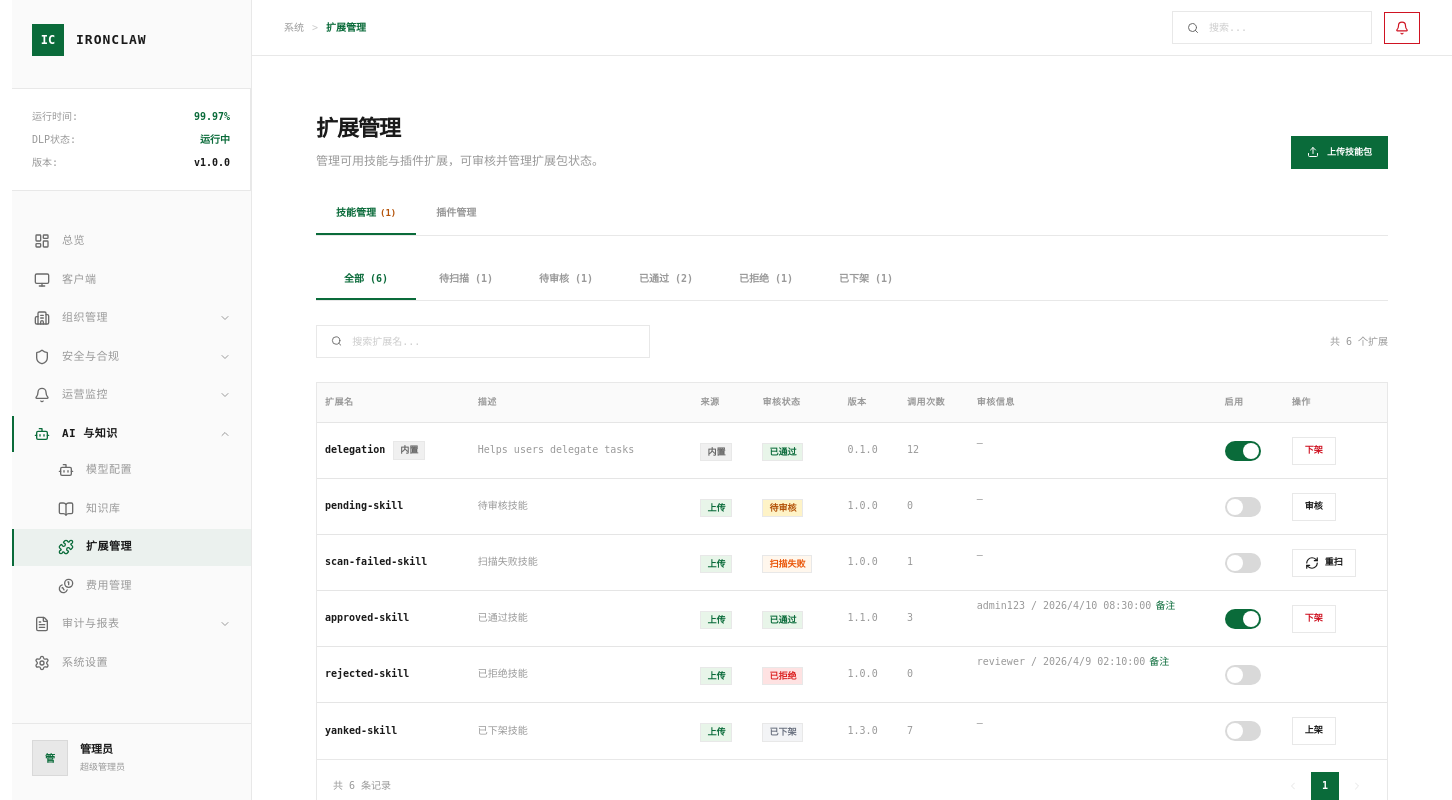
it: 扩展管理 › 页面结构与Tab › 切换到插件管理后应展示插件行
This screenshot has width=1452, height=800.
What coordinates should you click on to do the following:
click the button "插件管理"
I would click on:
 (456, 214)
Its box is [416,193,496,235].
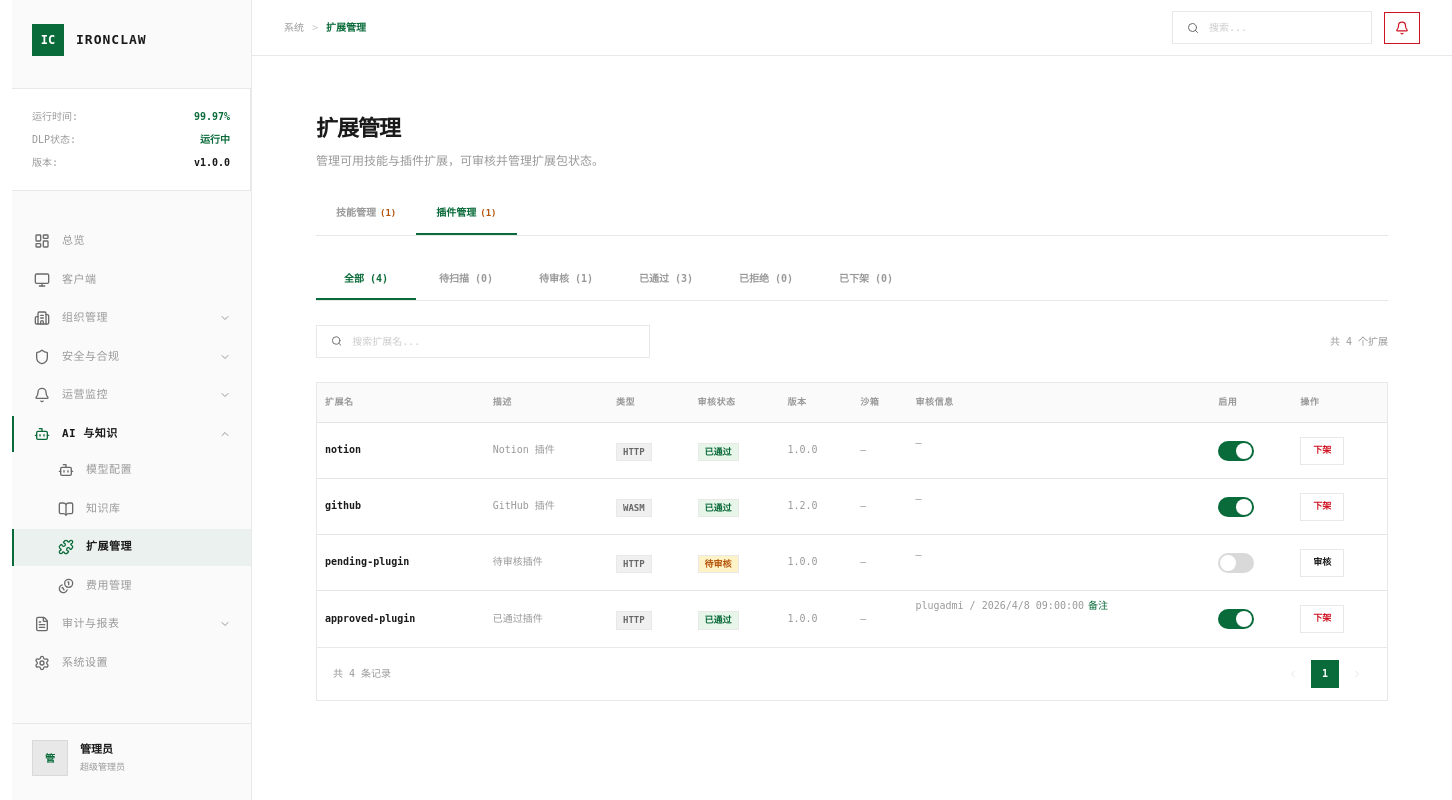
Now the text "notion" is shown, box [325,444,361,455]
Now the text "github" is shown, box [325,500,361,511]
Now the button "上传技能包" is gone
